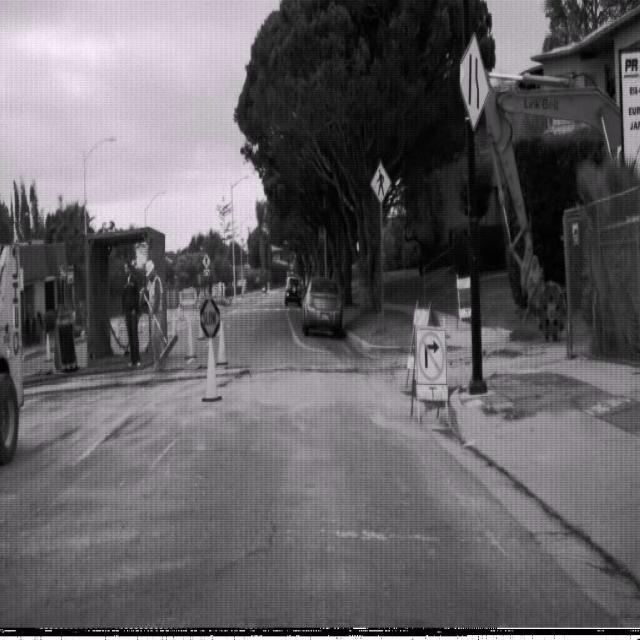noRightTurn: (416, 327, 446, 384)
pedestrianCrossing: (370, 160, 391, 203)
